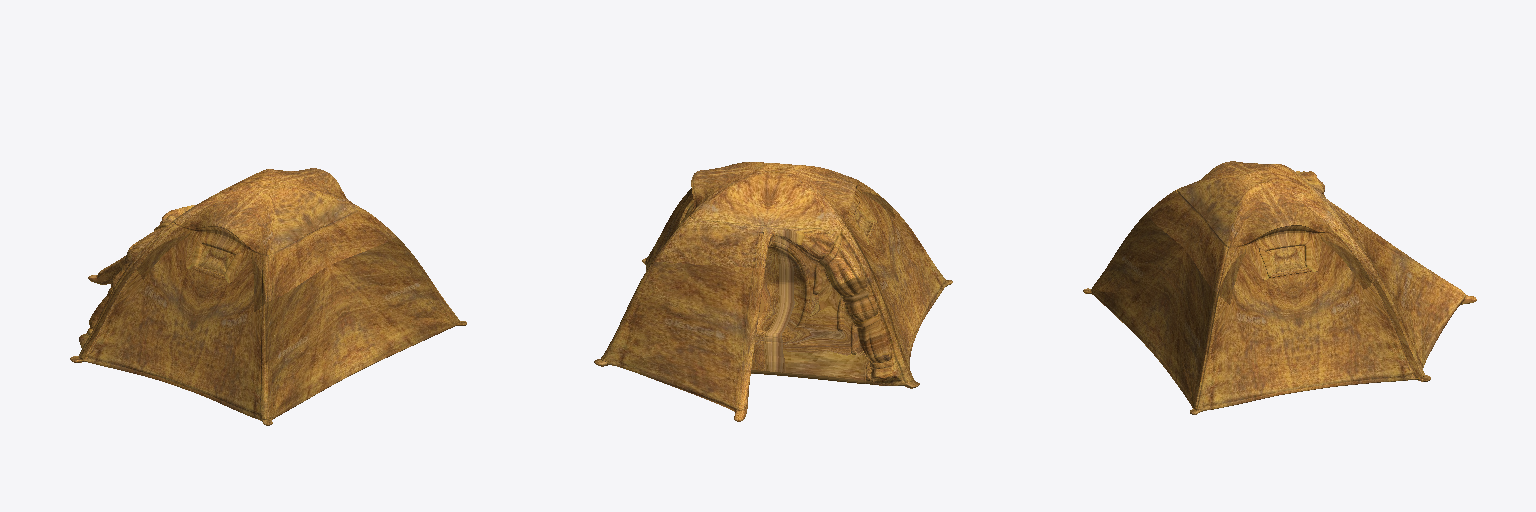
3 renders of one model, left to right at view 1: azimuth 30°, elevation 25°; view 2: azimuth 150°, elevation 25°; view 3: azimuth 270°, elevation 25°, orthographic.
Visible parts, largest first — view 1: 15233_Backpacking_Tent_2_man_v1; view 2: 15233_Backpacking_Tent_2_man_v1; view 3: 15233_Backpacking_Tent_2_man_v1.
Boxes of the visible parts, <box> form: 15233_Backpacking_Tent_2_man_v1: <box>70,168,466,425</box>; 15233_Backpacking_Tent_2_man_v1: <box>594,162,952,421</box>; 15233_Backpacking_Tent_2_man_v1: <box>1083,161,1476,414</box>.
Size of the model in its own units: 6.87 by 3.1 by 6.97.
1 materials, 1 textured.